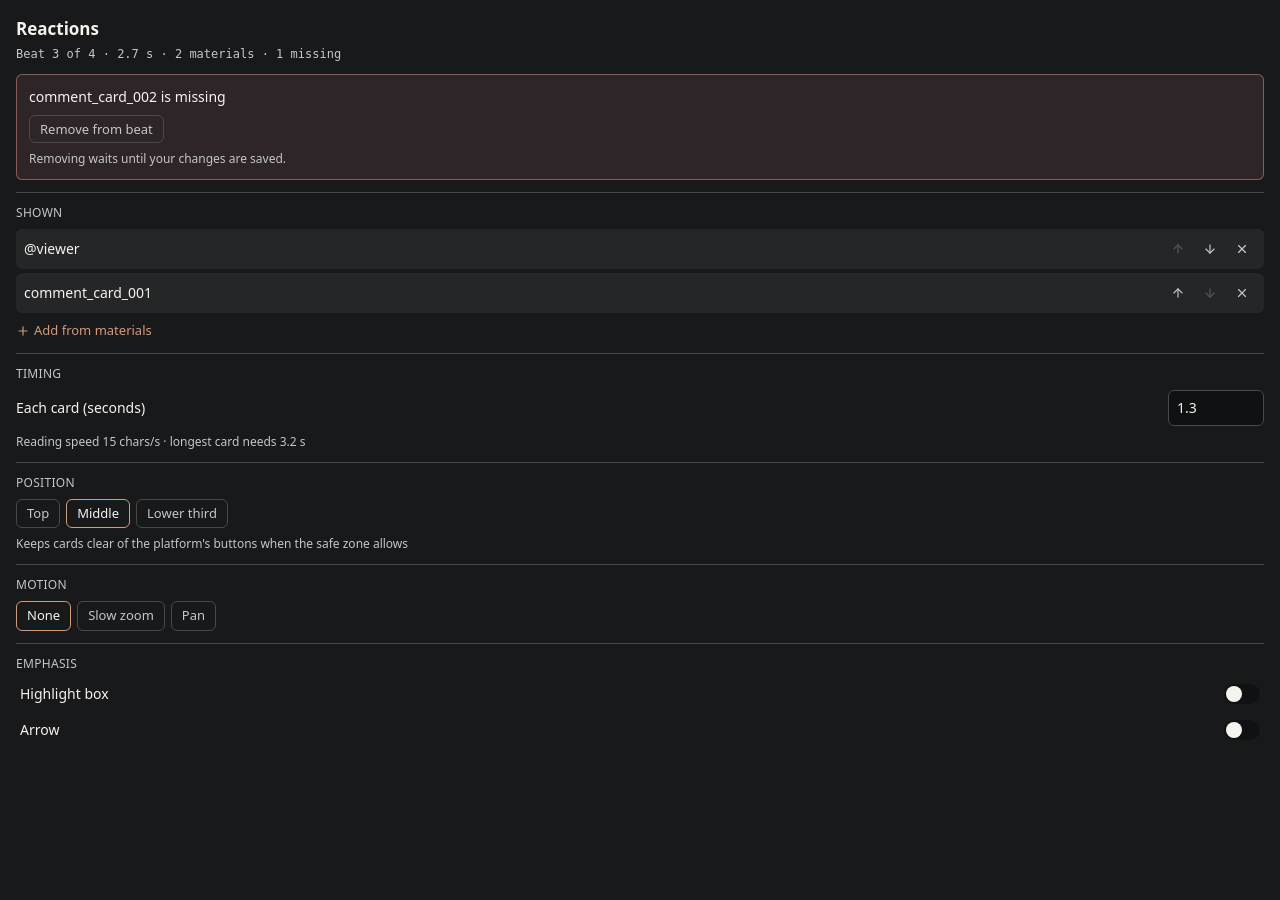
Test: without the run's provenance, Add from materials offers only what already has an asset
The image size is (1280, 900).
What coordinates should you click on to do the following:
click the button "Add from materials"
I would click on:
 (84, 331)
Its box is left=16, top=321, right=152, bottom=341.
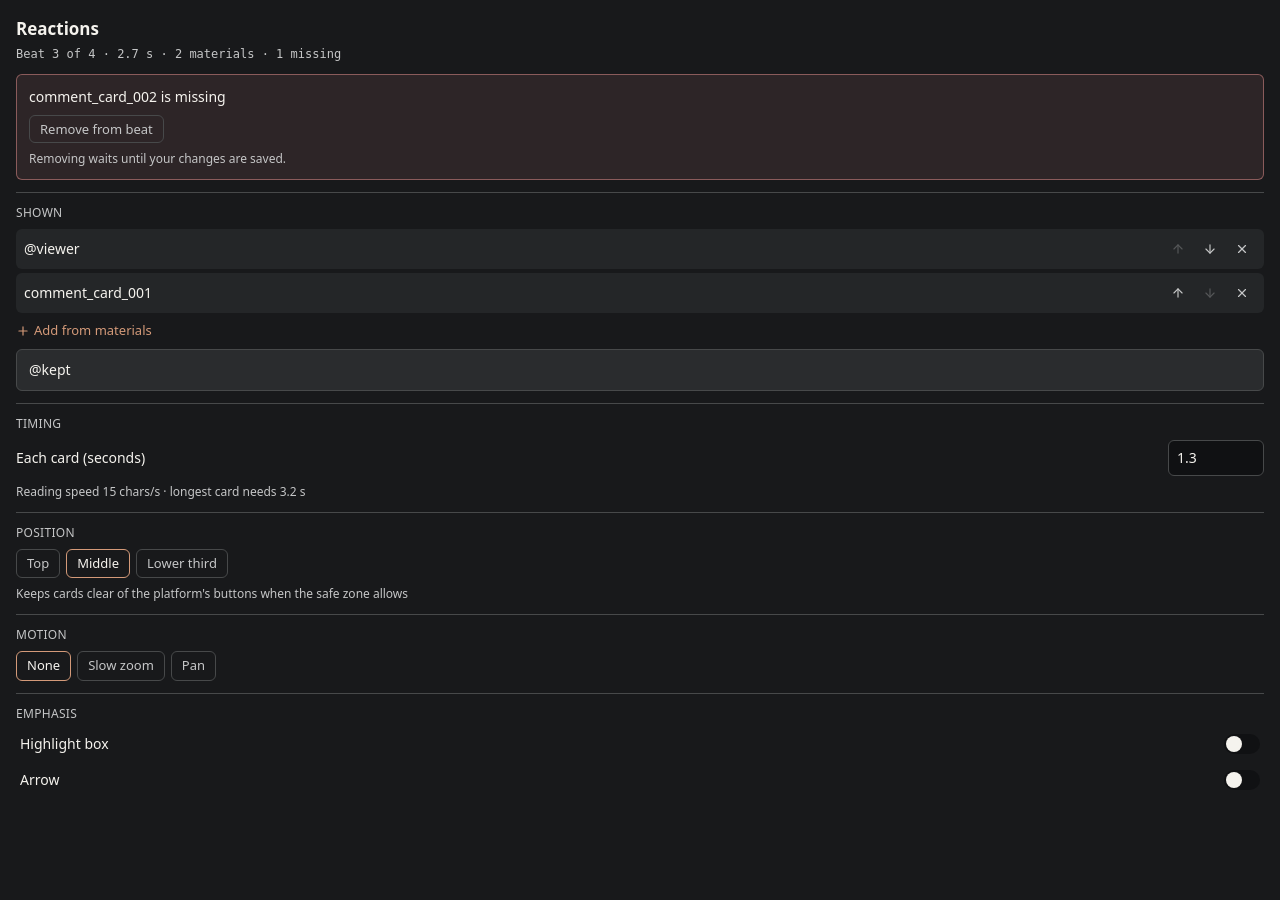
Result: the options read "@kept", in this order at left=29, top=360, right=71, bottom=379
